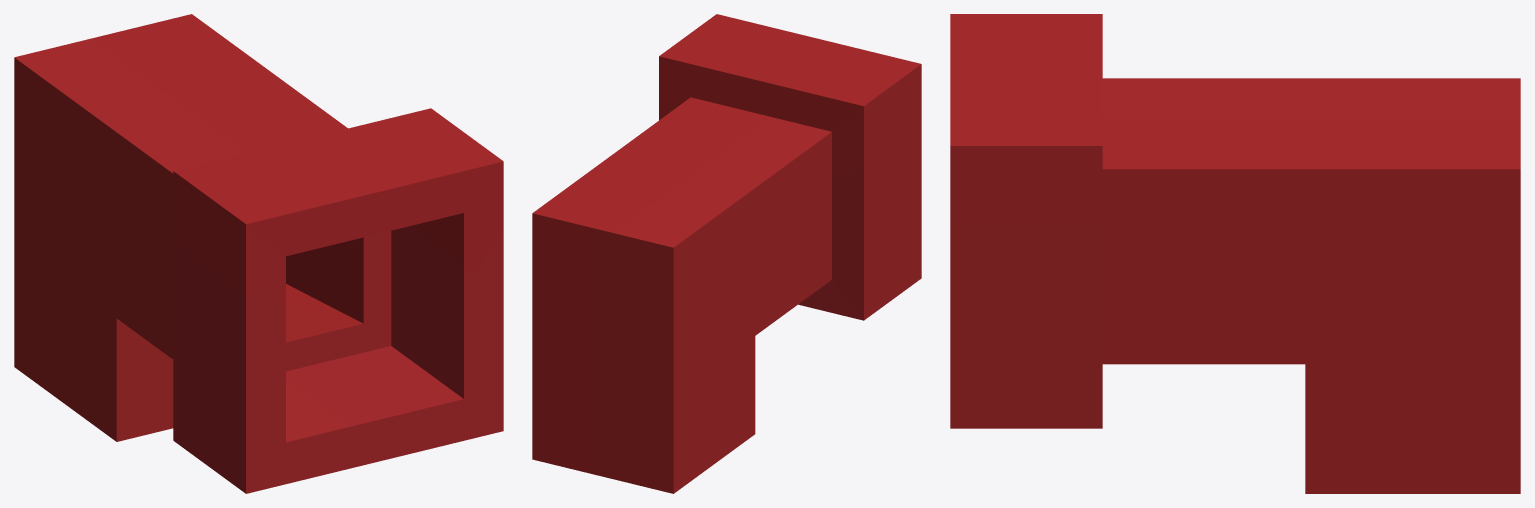
Rendered from Hopper.fbx.
3 renders of one model, left to right at view 1: azimuth 30°, elevation 25°; view 2: azimuth 150°, elevation 25°; view 3: azimuth 270°, elevation 25°, orthographic. The views are drawn at different scales.
Visible parts, largest first — view 1: Cube; view 2: Cube; view 3: Cube.
Part boxes in pixels (box(x1,y1,x2,y2)): Cube: box(14, 14, 503, 493); Cube: box(532, 14, 921, 493); Cube: box(950, 14, 1520, 493).
Bounding box in the file's own units: 99.29 × 129 × 181.
